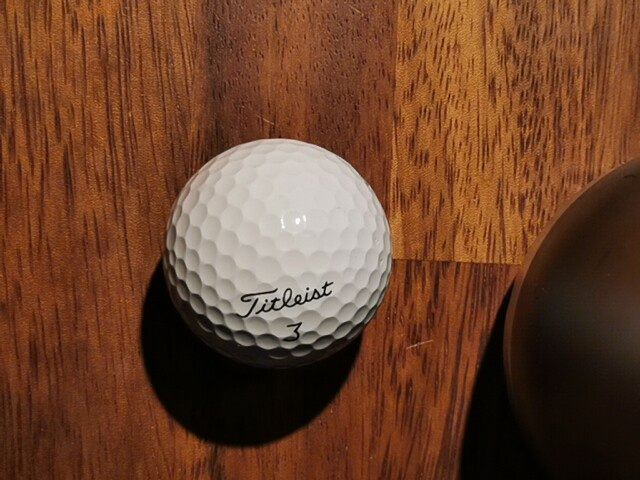Ball: (163, 138, 393, 370)
Titleist: (235, 280, 334, 319)
